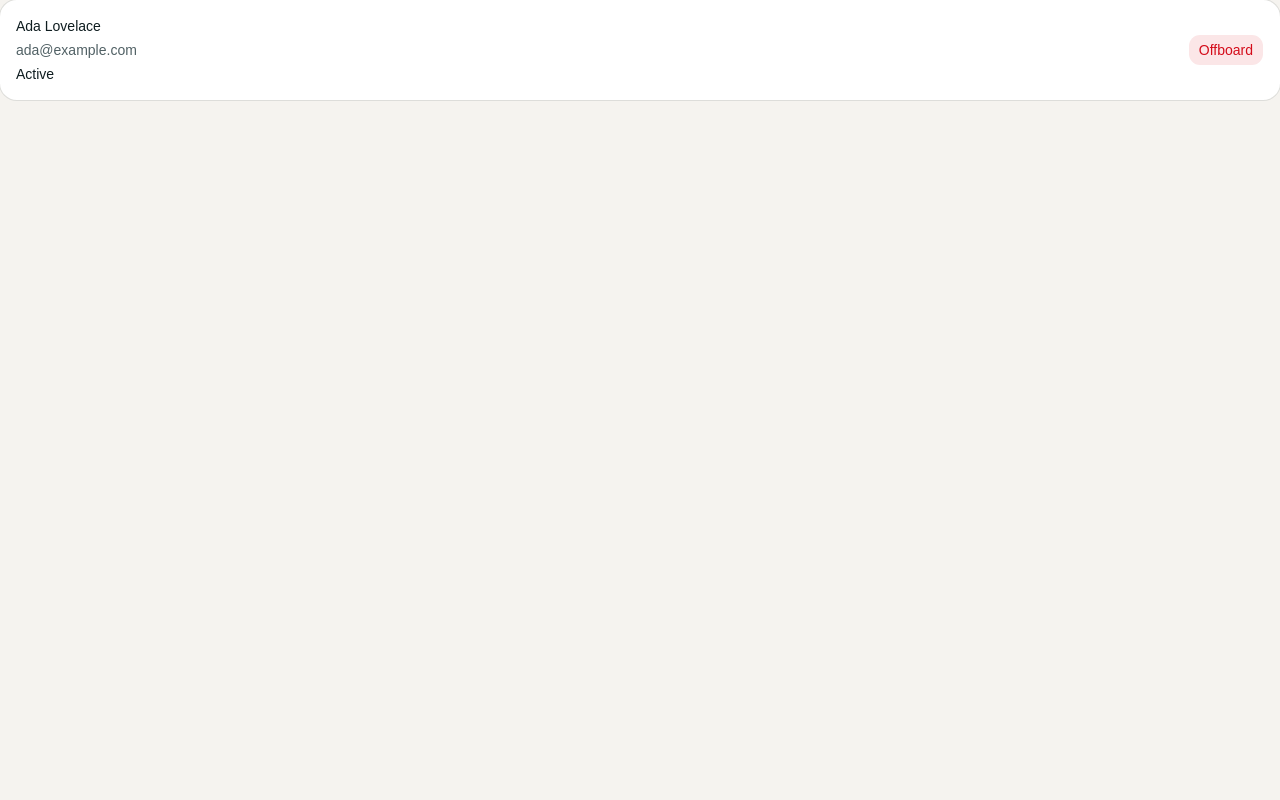
Test: MembersAdminPage › explains that the Admin cannot be offboarded
Click the button with aria-label "Offboard Ada Lovelace" at (1226, 50), box x1=1188 y1=34 x2=1264 y2=66
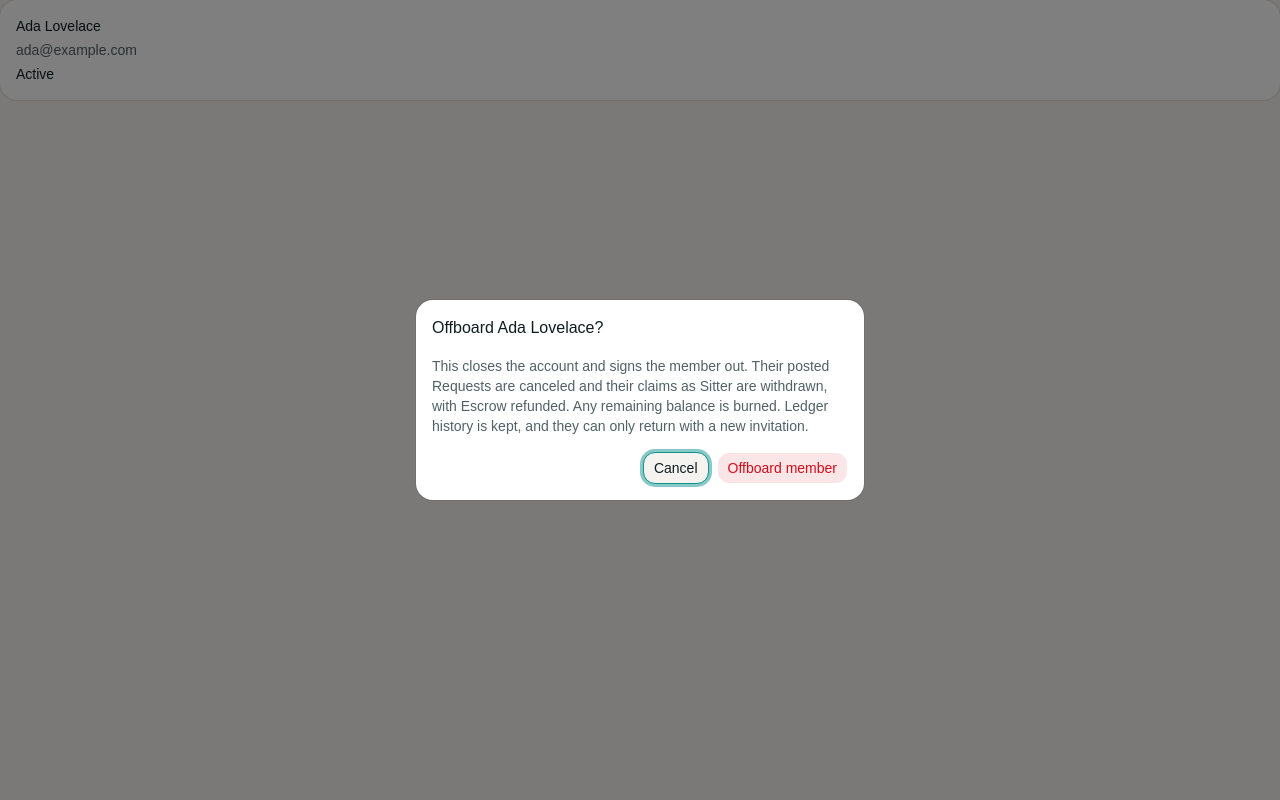
Click the button "Offboard member" at (782, 468), box x1=716 y1=452 x2=848 y2=484
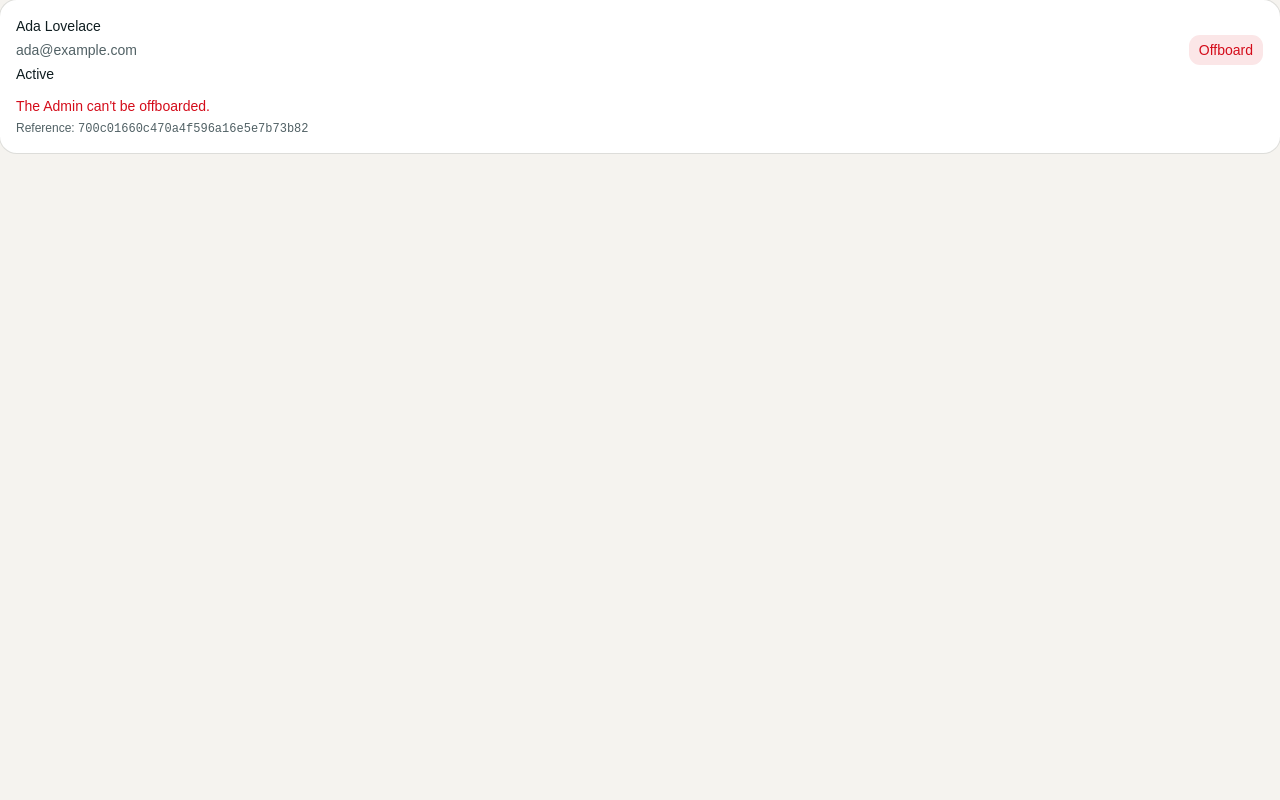
Result: the message shows "The Admin can't be offboarded." at x1=16 y1=98 x2=210 y2=114
